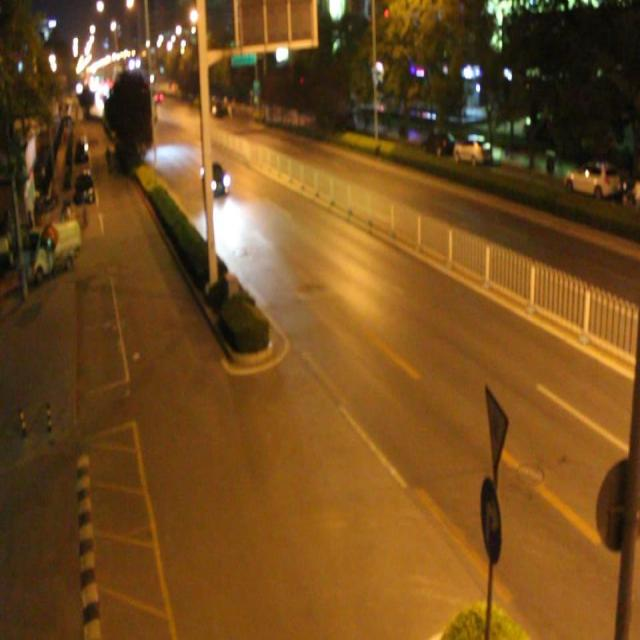car: (199, 162, 228, 197)
